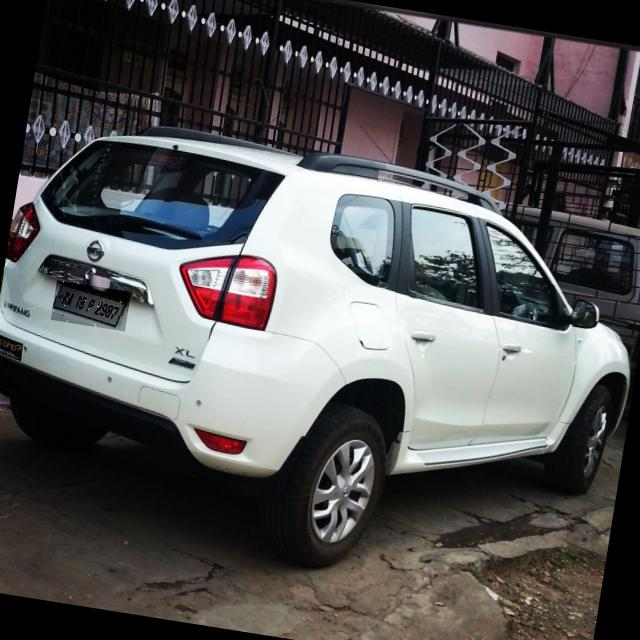Plate: (52, 282, 132, 333)
